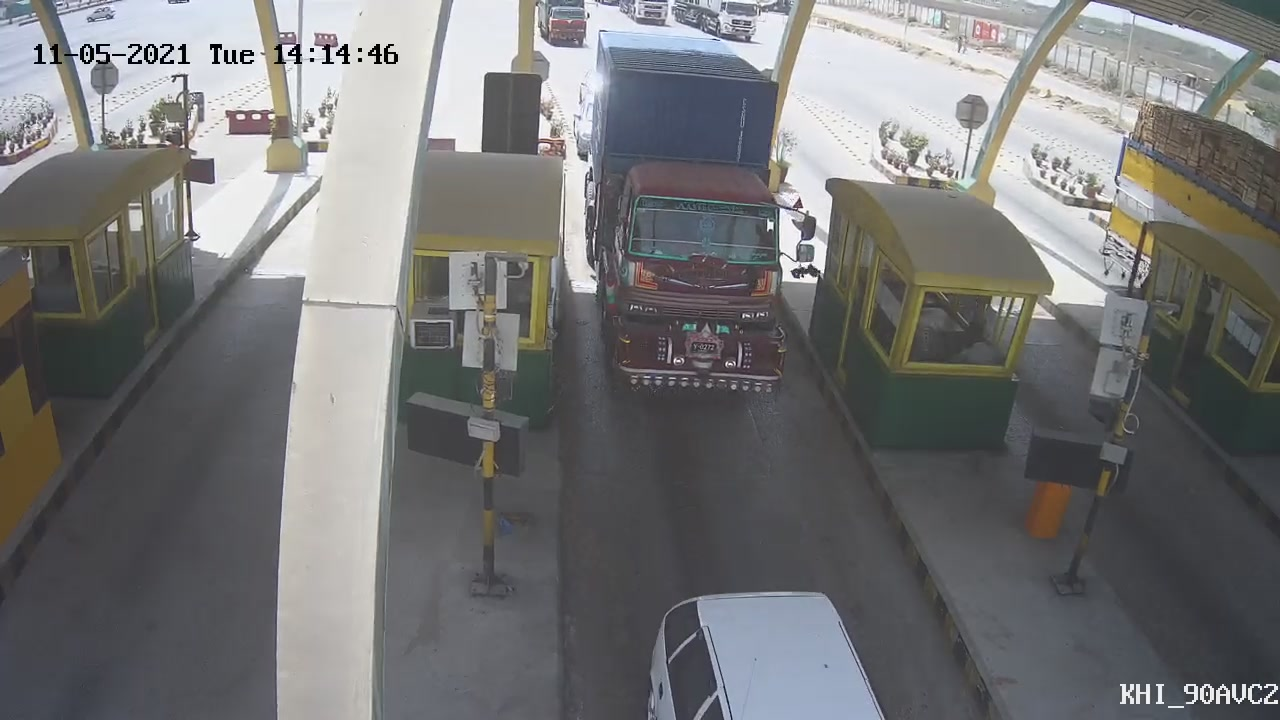F6: (582, 18, 804, 414)
